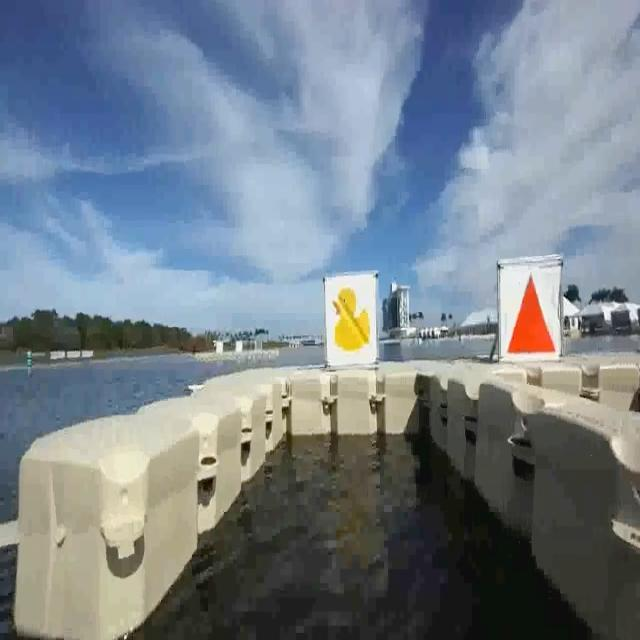red-dot: (500, 258, 558, 364)
yellow-duck: (321, 277, 376, 366)
